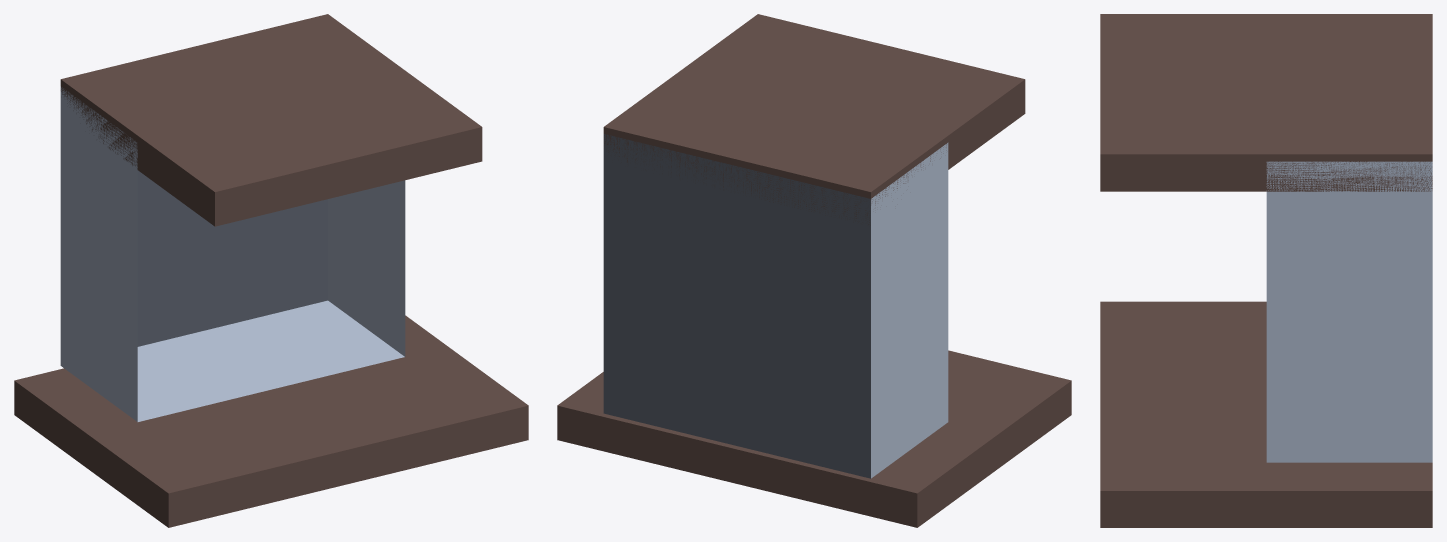
The model's file is SM_Env_Window_19.fbx.
The picture shows the model from 3 angles, left to right: view 1: azimuth 30°, elevation 25°; view 2: azimuth 150°, elevation 25°; view 3: azimuth 270°, elevation 25°; orthographic projection. The views are drawn at different scales.
Parts seen in each view (by area): view 1: SM_Env_Window_19; view 2: SM_Env_Window_19; view 3: SM_Env_Window_19.
Boxes of the visible parts, x1,y1,x2,y2 form: SM_Env_Window_19: (14,14,528,527); SM_Env_Window_19: (557,14,1071,527); SM_Env_Window_19: (1100,14,1432,527).
Size of the model in its own units: 98.5 by 84.76 by 73.1.
Materials: 1 (1 with a texture image).
